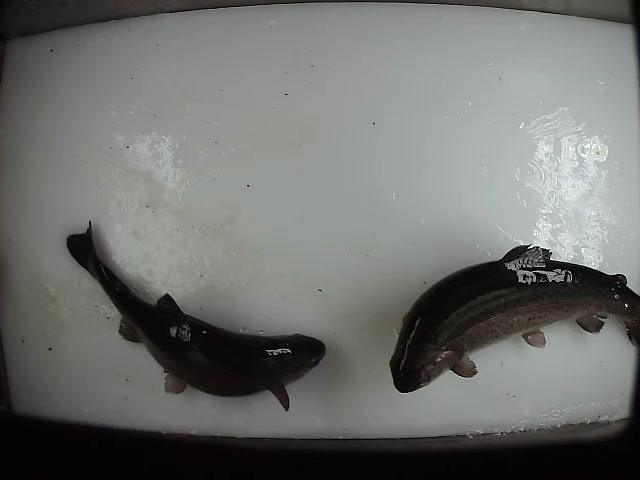fish: (63, 219, 327, 417), (385, 240, 640, 400)
